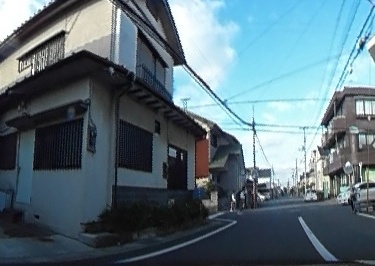person: (347, 181, 359, 207)
